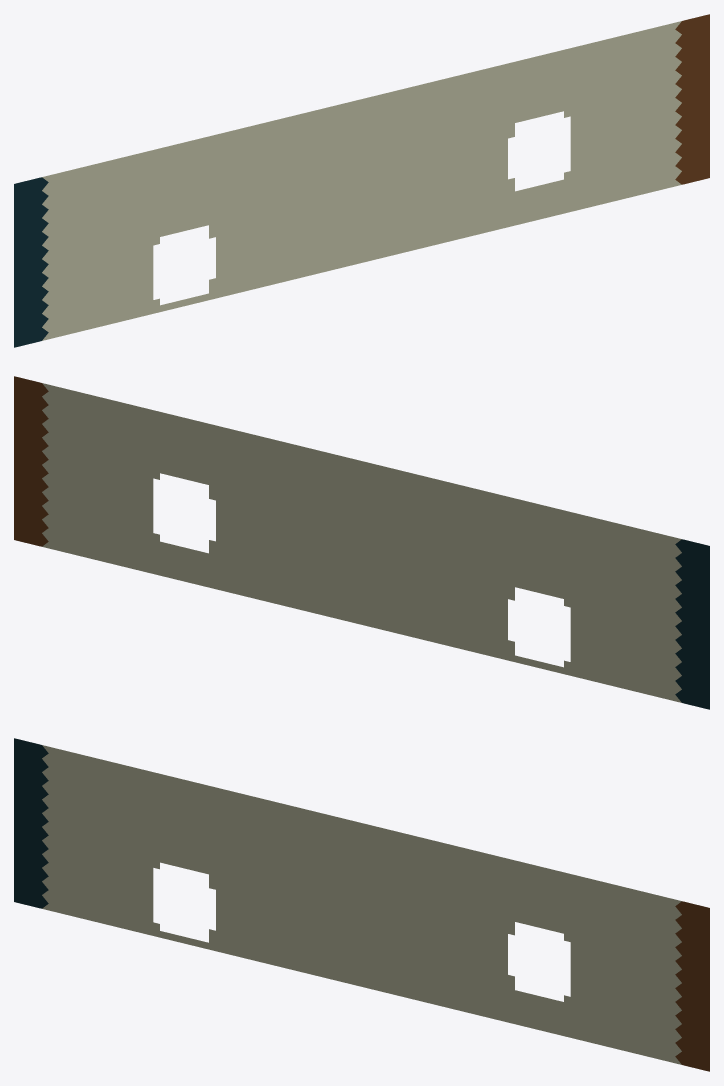
The model's file is garment.obj.
3 renders of one model, top to bottom at view 1: azimuth 30°, elevation 25°; view 2: azimuth 150°, elevation 25°; view 3: azimuth 330°, elevation 25°, orthographic.
Bounding box in the file's own units: 0.8 × 0.18 × 0.
